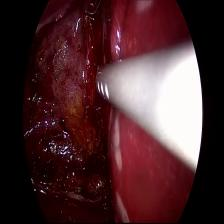Irrigator: (93, 59, 131, 113), (81, 0, 109, 24)
